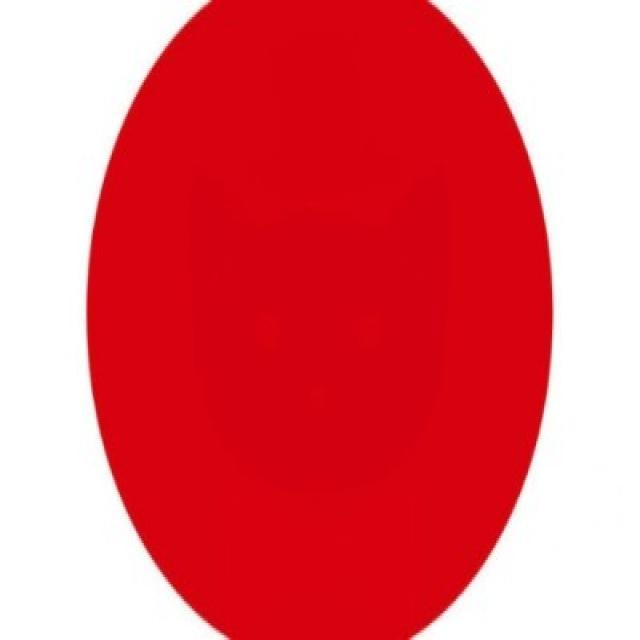Circle: (83, 0, 554, 640)
